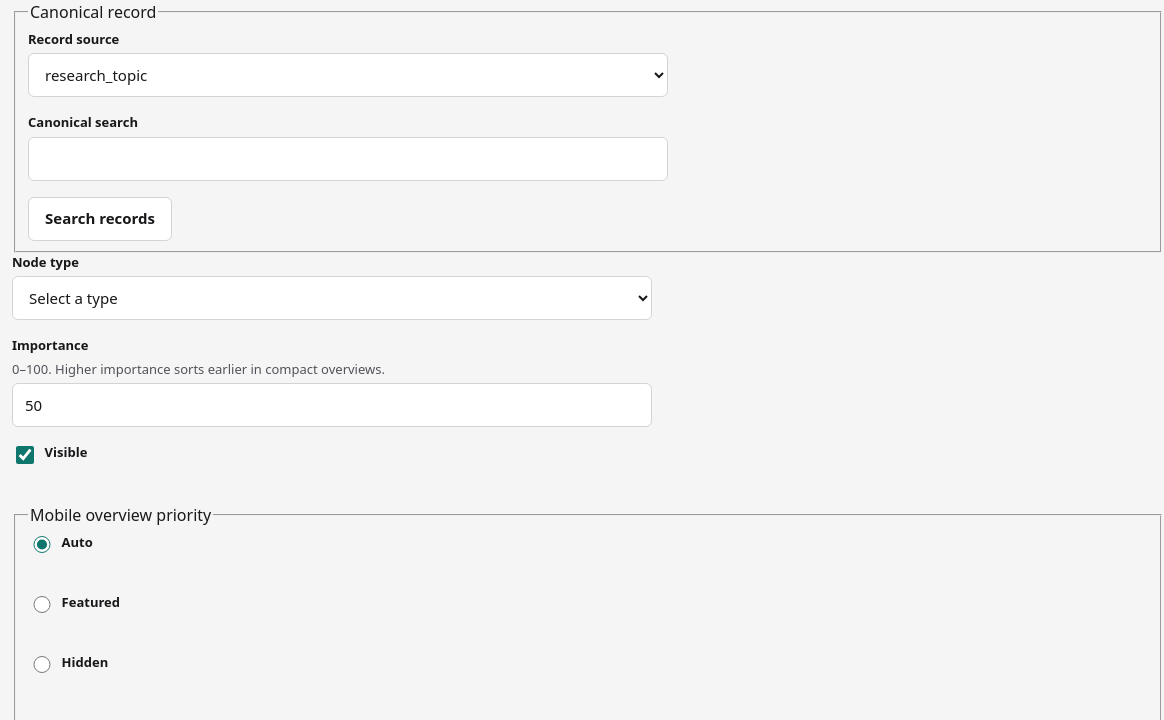
Test: NodeForm (Plan B Task 11) › renders server field errors as alerts without saving
Select "topic" in the dropdown labelled "Node type": (332, 298) [12,276,652,320]
(page scrolled)
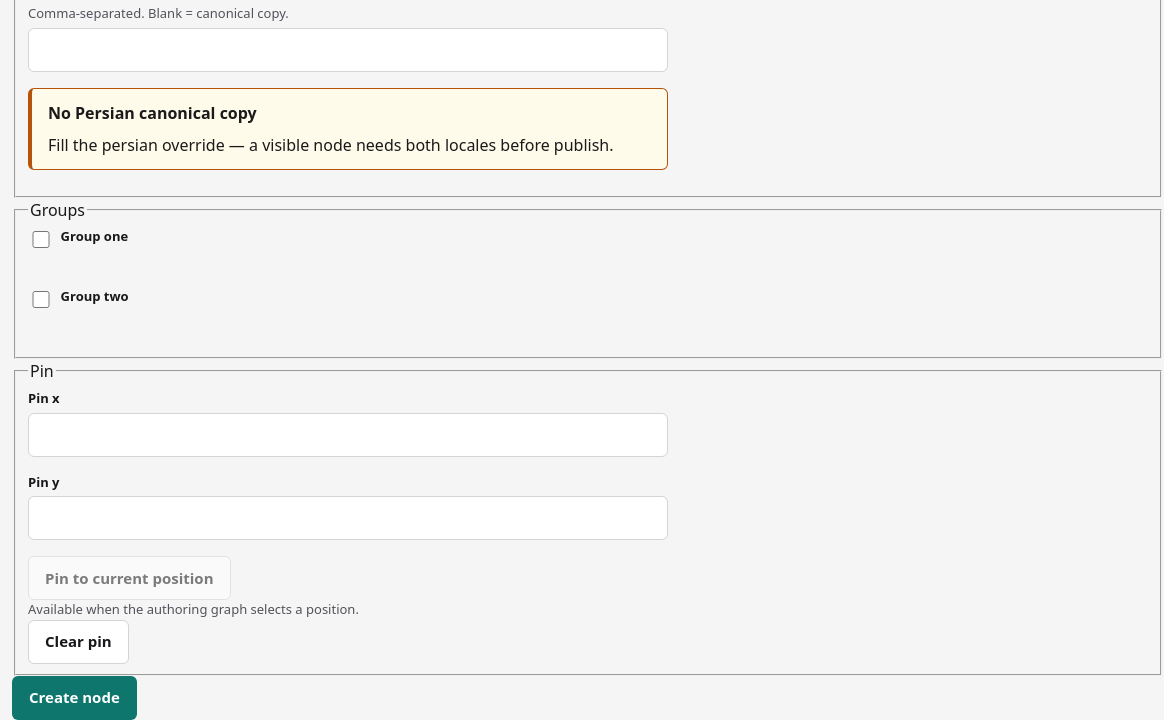
Click the button "Create node": (74, 698) [12,676,137,719]
(page scrolled)
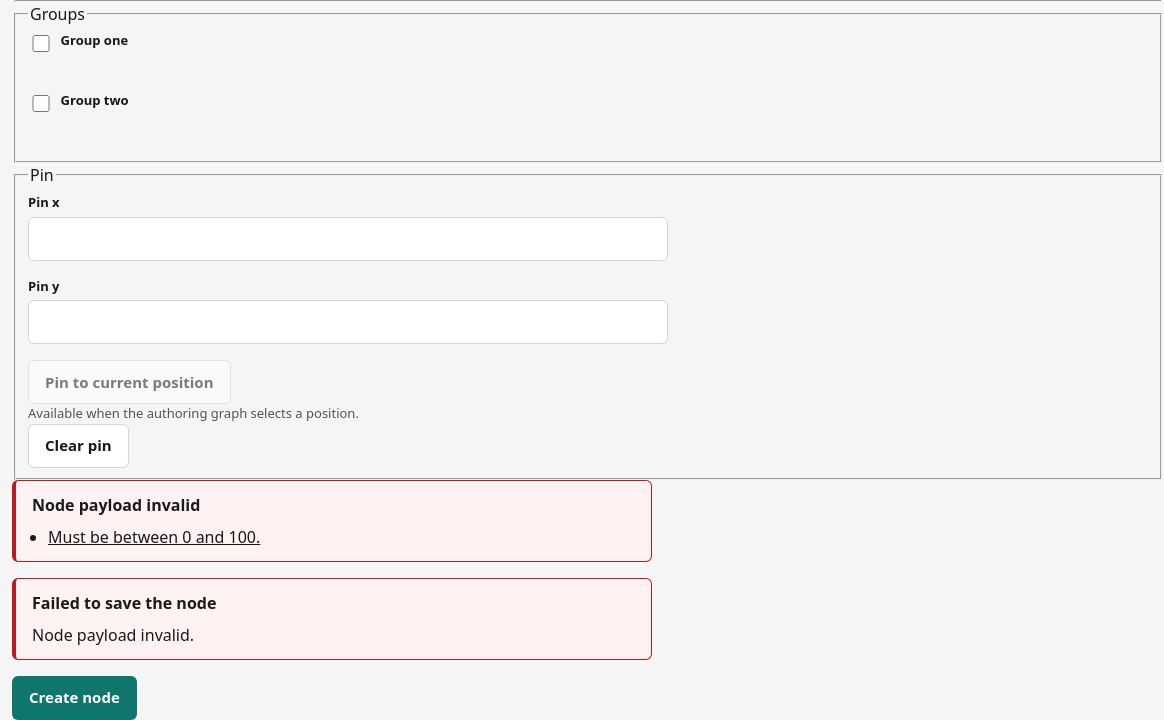
Expected: the link "Must be between 0 and 100." is shown, [48,526,260,548]
